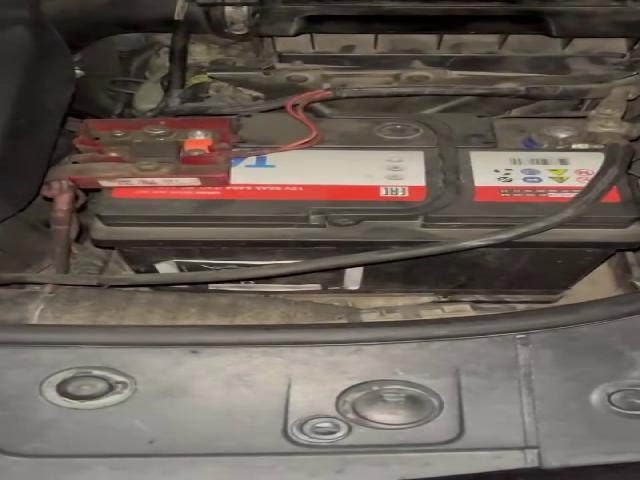accumulator: (45, 114, 635, 296)
